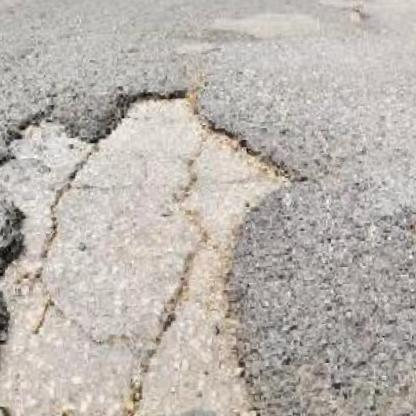pothole: (0, 73, 315, 416)
